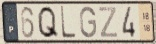4: (121, 6, 137, 40)
6: (20, 5, 36, 40)
G: (79, 6, 98, 40)
L: (59, 4, 77, 40)
Q: (36, 5, 60, 40)
Z: (98, 6, 119, 39)
